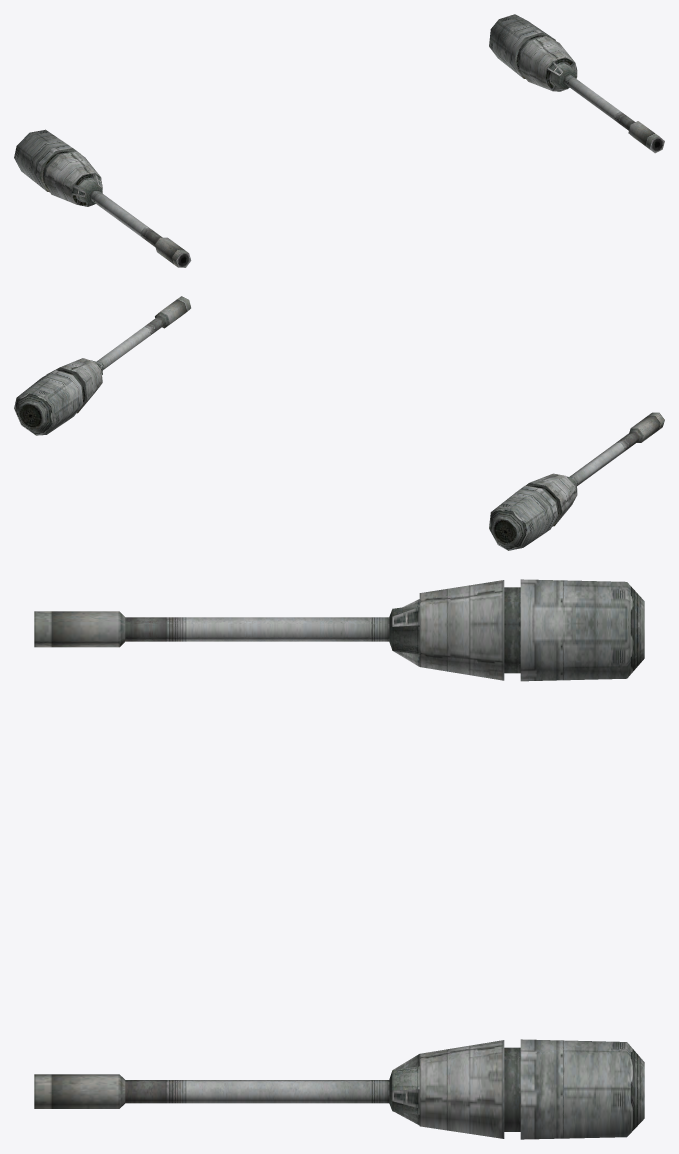
Rendered from black_sun_fighter_medium_weapon2_s05_l0.fbx.
The picture shows the model from 3 angles, top to bottom: view 1: azimuth 30°, elevation 25°; view 2: azimuth 150°, elevation 25°; view 3: azimuth 270°, elevation 25°; orthographic projection. The views are drawn at different scales.
Parts seen in each view (by area): view 1: mesh_node; view 2: mesh_node; view 3: mesh_node.
Part boxes in pixels (bbox=[...]): mesh_node: bbox=[14, 14, 664, 267]; mesh_node: bbox=[14, 296, 664, 550]; mesh_node: bbox=[34, 579, 644, 1139].
Bounding box in the file's own units: 7.5 × 0.63 × 3.82.
1 material, 1 textured.
